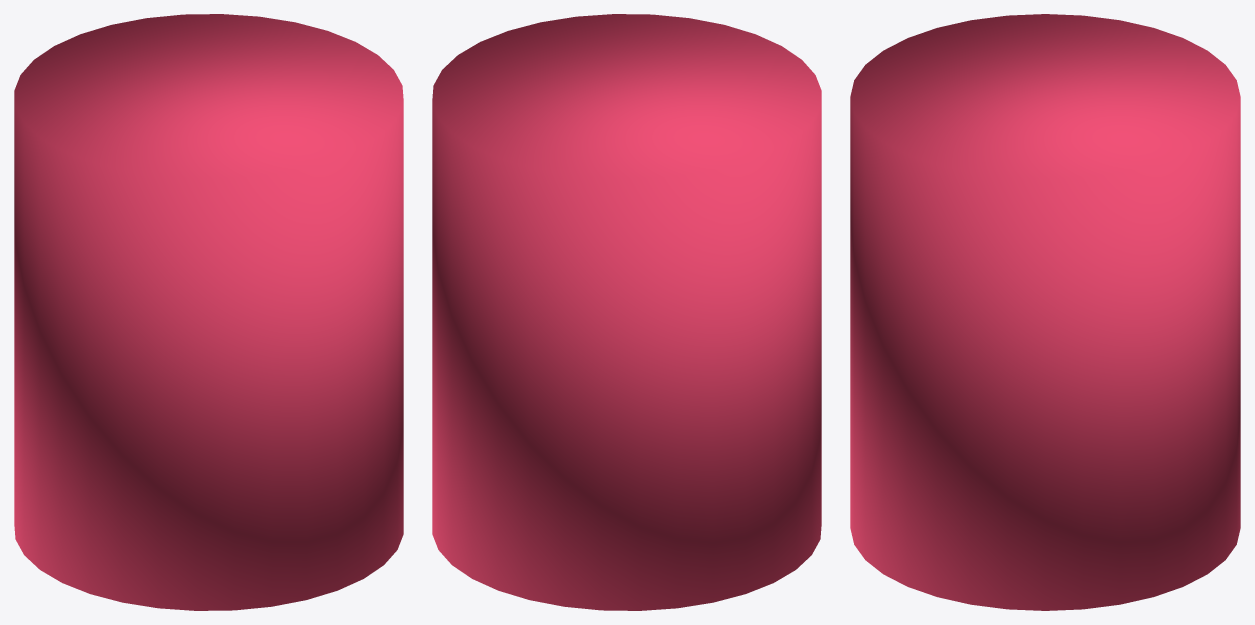
3 renders of one model, left to right at view 1: azimuth 30°, elevation 25°; view 2: azimuth 150°, elevation 25°; view 3: azimuth 270°, elevation 25°, orthographic.
Parts seen in each view (by area): view 1: solid_cylinder; view 2: solid_cylinder; view 3: solid_cylinder.
Part boxes in pixels (x1,y1,x2,y2): solid_cylinder: (14,14,403,610); solid_cylinder: (432,14,821,610); solid_cylinder: (850,14,1240,610).
Bounding box in the file's own units: 0.18 × 0.22 × 0.18.
